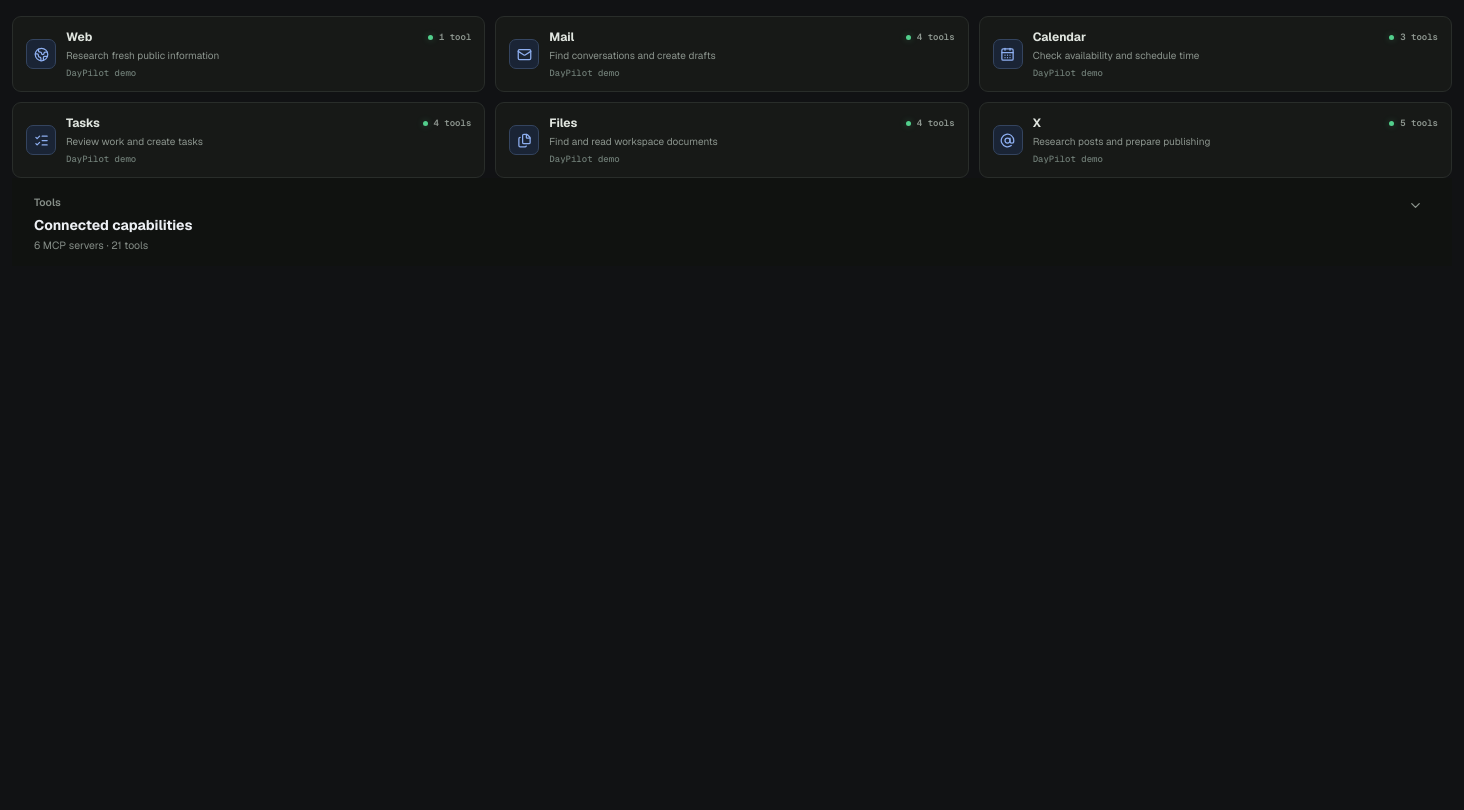
Scenario: DayPilot operations workspace › opens and selects the matching MCP details from each capability card
Check: the text "6 MCP servers · 21 tools" is shown, box [34, 238, 148, 252]
What coordinates should you click on to do the following:
click the button with test id "capability-card-mail"
I would click on:
 (632, 56)
Its box is [495, 16, 969, 92].
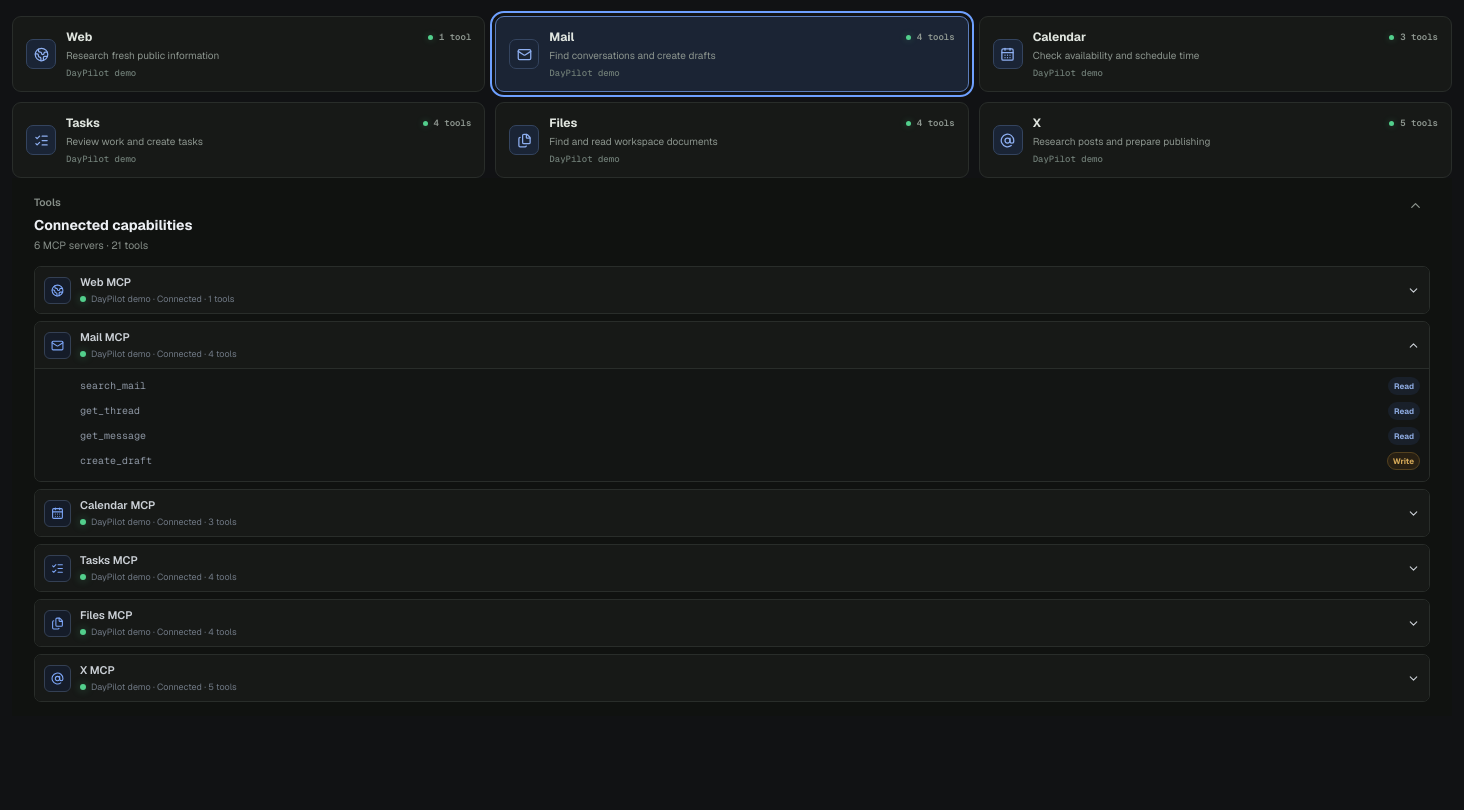
Check: the button named "collapse connected capabilities" is expanded, box [1400, 190, 1430, 220]
Check: the text "search_mail" is shown, box [80, 379, 146, 392]
What coordinates should you click on to do the following:
click the button with test id "capability-card-calendar"
I would click on:
 (1059, 37)
Its box is [979, 16, 1452, 92].
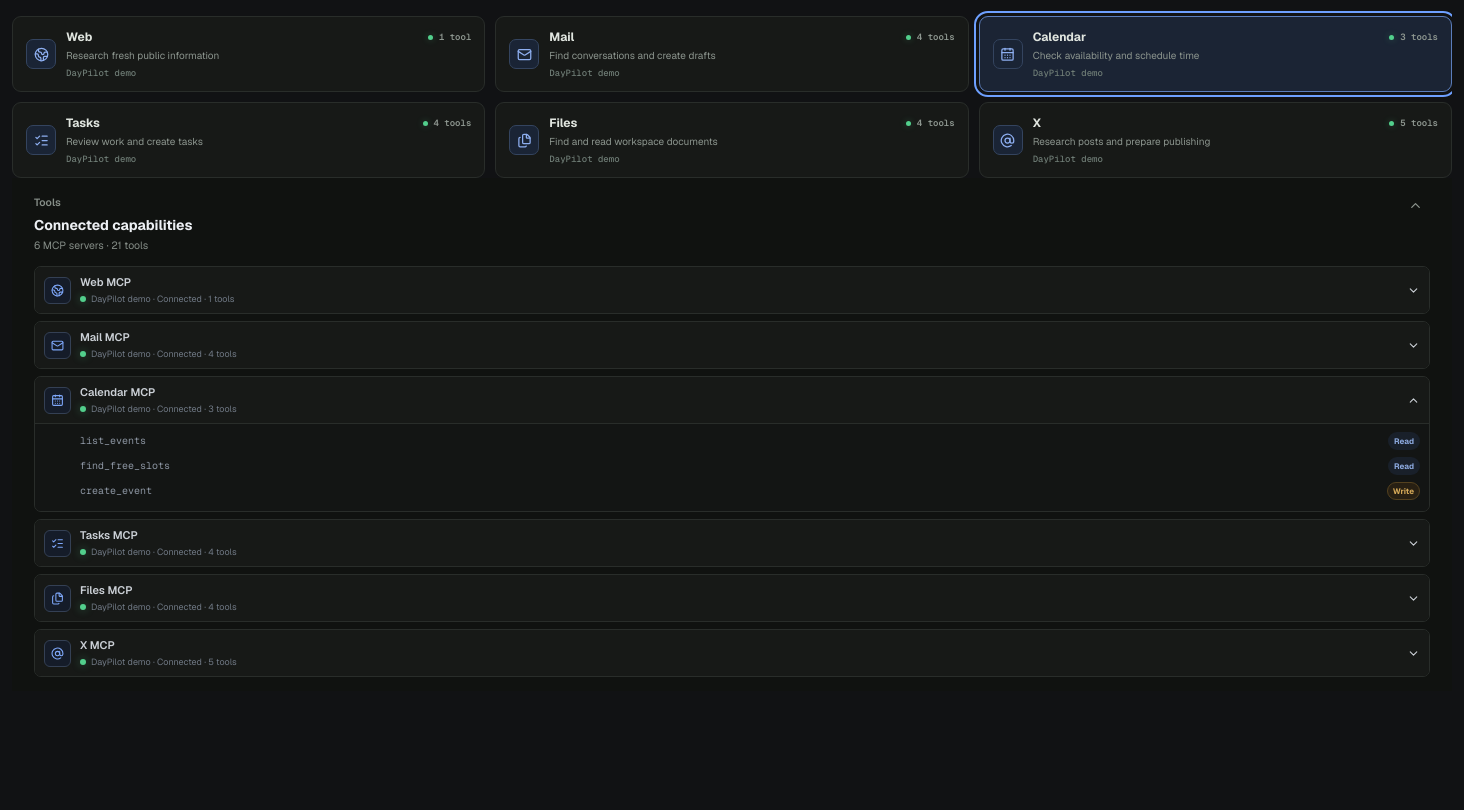
Check: the button "Calendar MCP DayPilot demo · Connected · 3 tools" is expanded, box [35, 377, 1429, 423]
Check: the text "list_events" is shown, box [80, 434, 146, 447]
What coordinates should you click on to do the following:
click the button with test id "capability-card-tasks"
I would click on:
 (83, 123)
Its box is [12, 102, 485, 178].
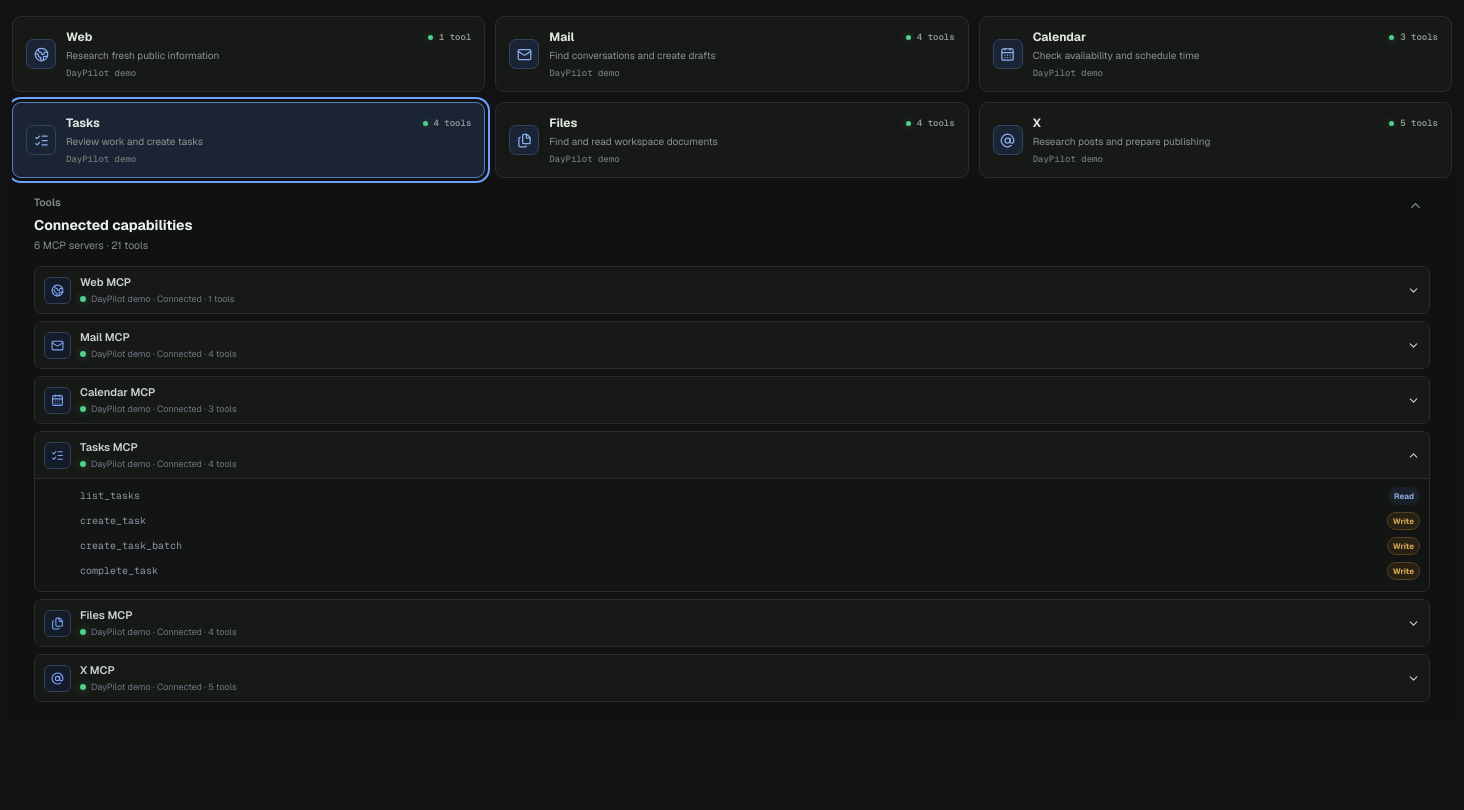
Check: the button "Tasks MCP DayPilot demo · Connected · 4 tools" is expanded, box [35, 432, 1429, 478]
Check: the text "list_tasks" is shown, box [80, 489, 140, 502]
What coordinates should you click on to do the following:
click the button with test id "capability-card-files"
I would click on:
 (634, 142)
Its box is [495, 102, 969, 178].
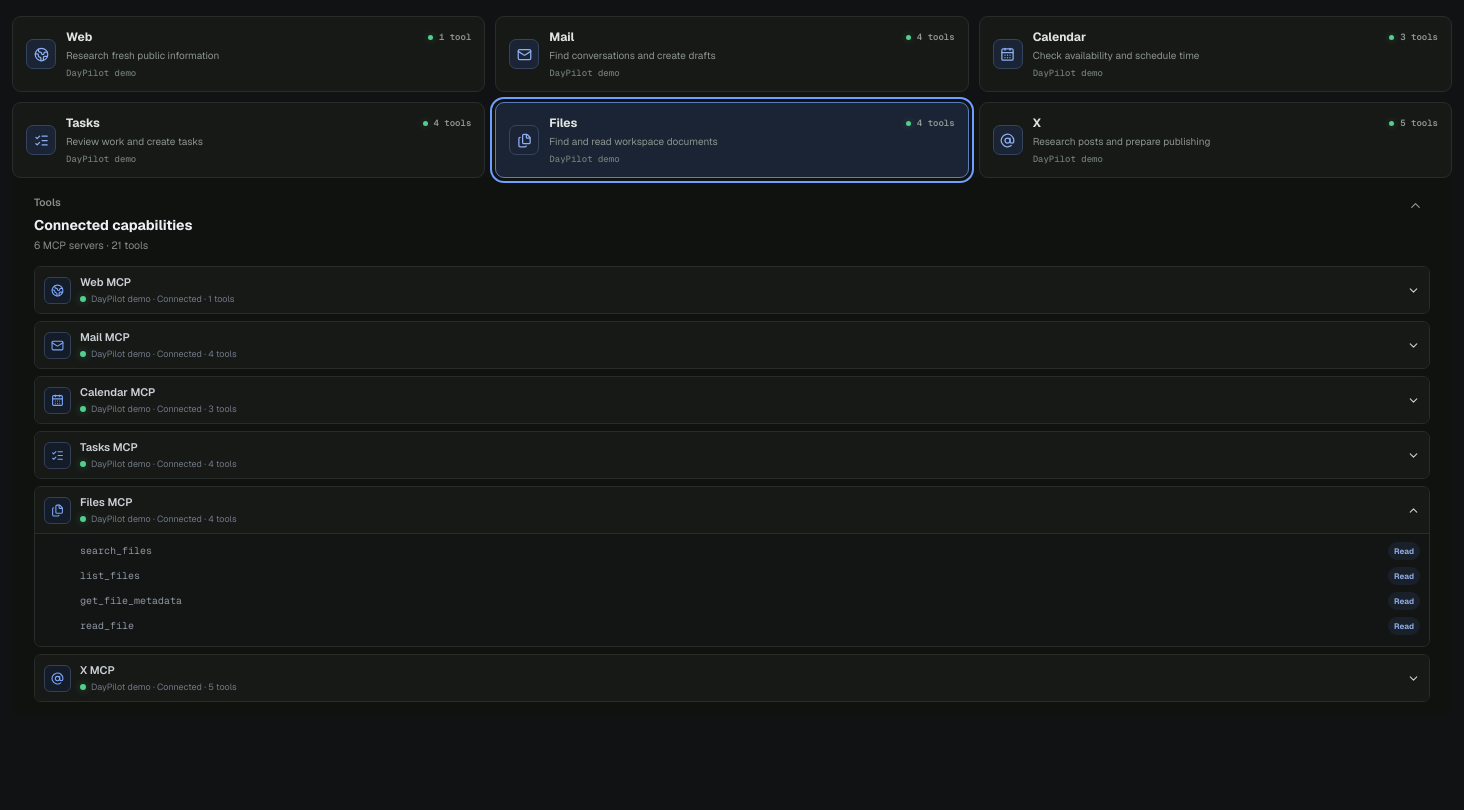
Check: the button "Files MCP DayPilot demo · Connected · 4 tools" is expanded, box [35, 487, 1429, 533]
Check: the text "search_files" is shown, box [80, 544, 152, 557]
What coordinates should you click on to do the following:
click the button with test id "capability-card-x"
I would click on:
 (1122, 142)
Its box is [979, 102, 1452, 178].
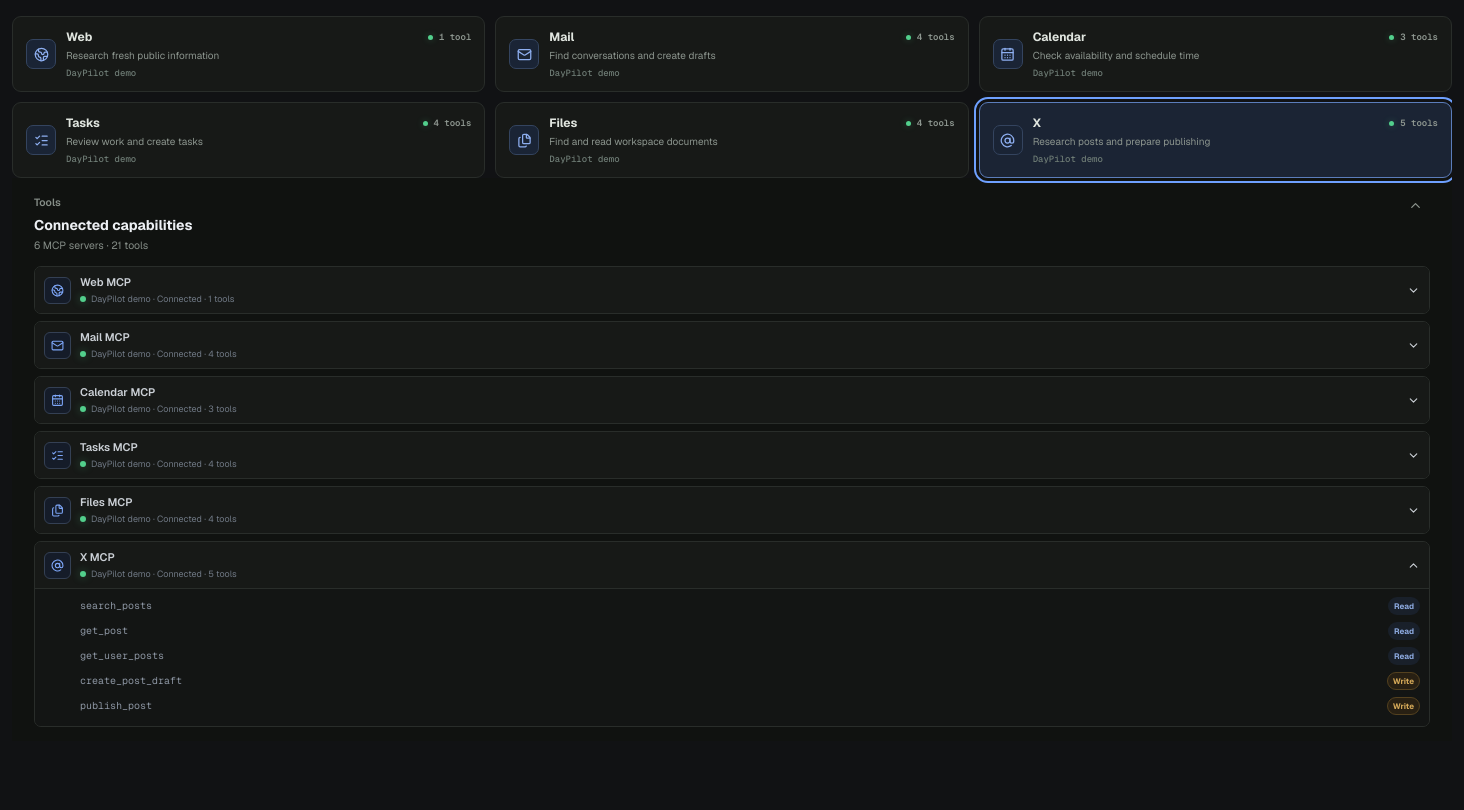
Check: the button "X MCP DayPilot demo · Connected · 5 tools" is expanded, box [35, 542, 1429, 588]
Check: the text "search_posts" is shown, box [80, 599, 152, 612]
